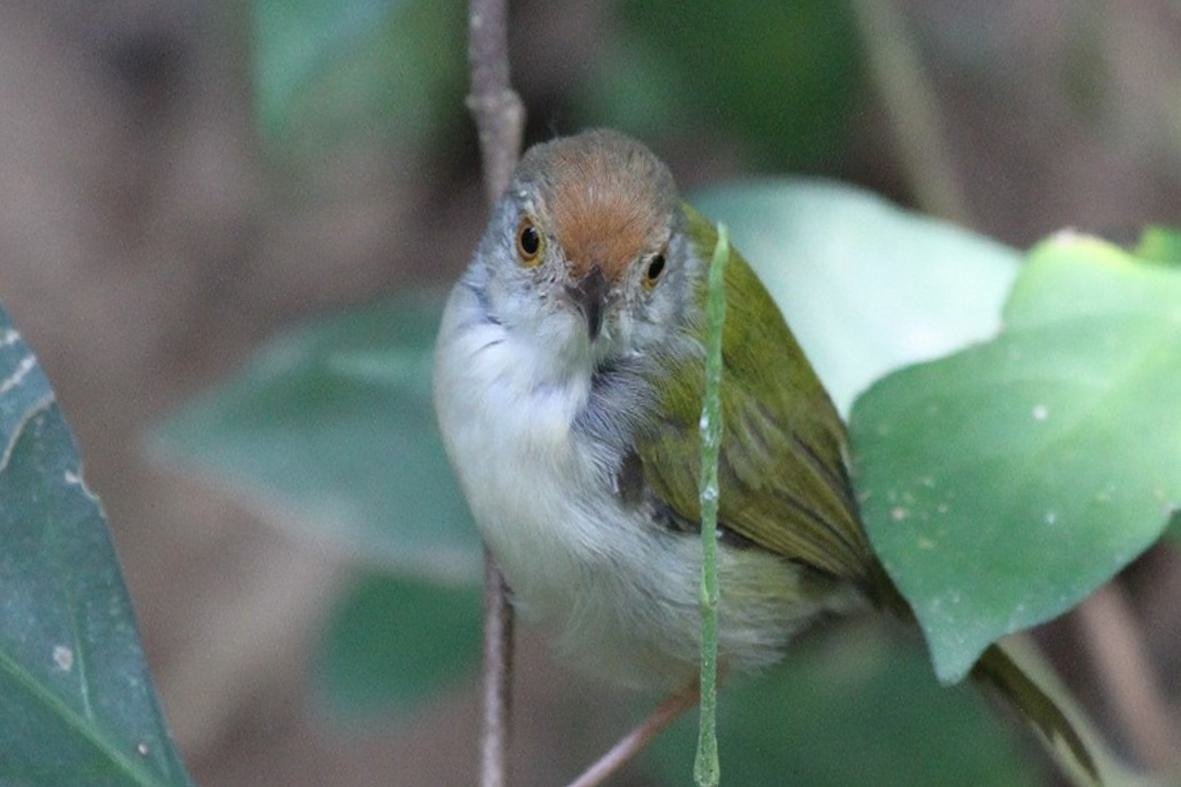tailorbird: (415, 102, 913, 725)
